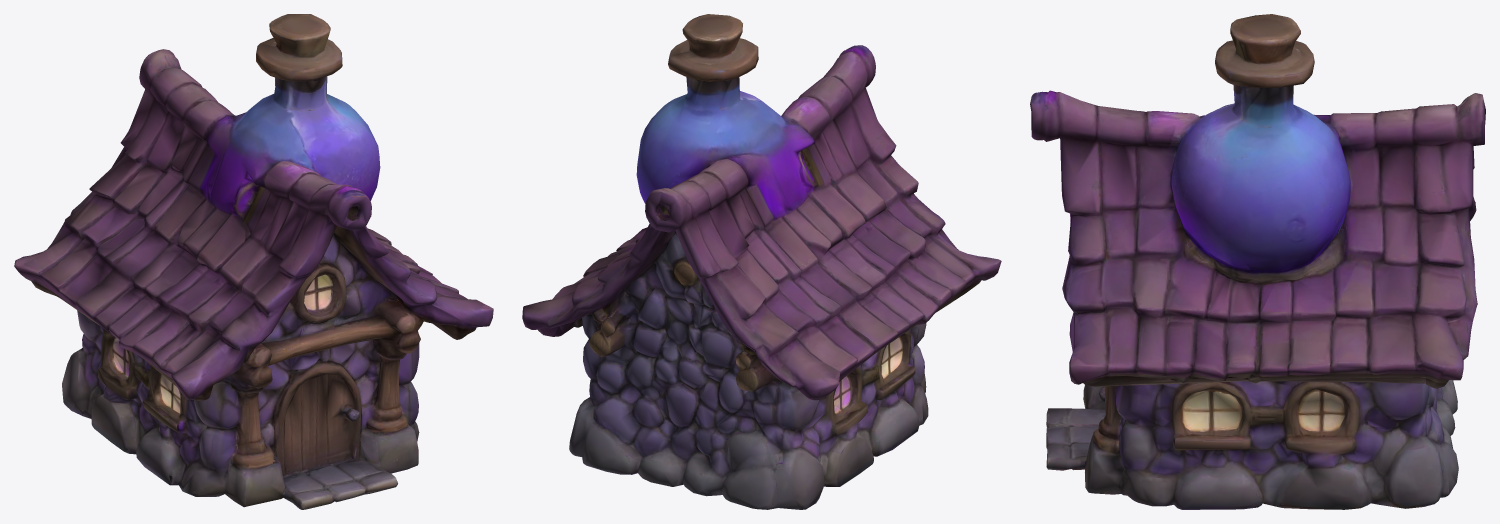
File: potionhouse.glb
The picture shows the model from 3 angles, left to right: view 1: azimuth 30°, elevation 25°; view 2: azimuth 150°, elevation 25°; view 3: azimuth 270°, elevation 25°; orthographic projection. The views are drawn at different scales.
Bounding box in the file's own units: 1.67 × 1.99 × 1.85.
1 material, 1 textured.
